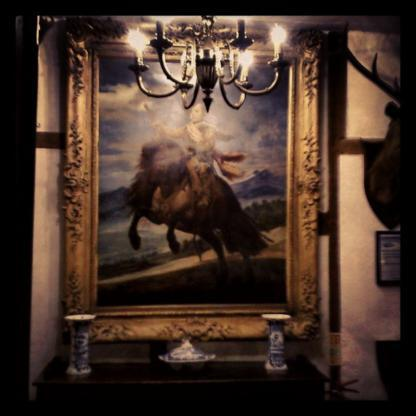Picture-frame: (59, 16, 322, 344)
